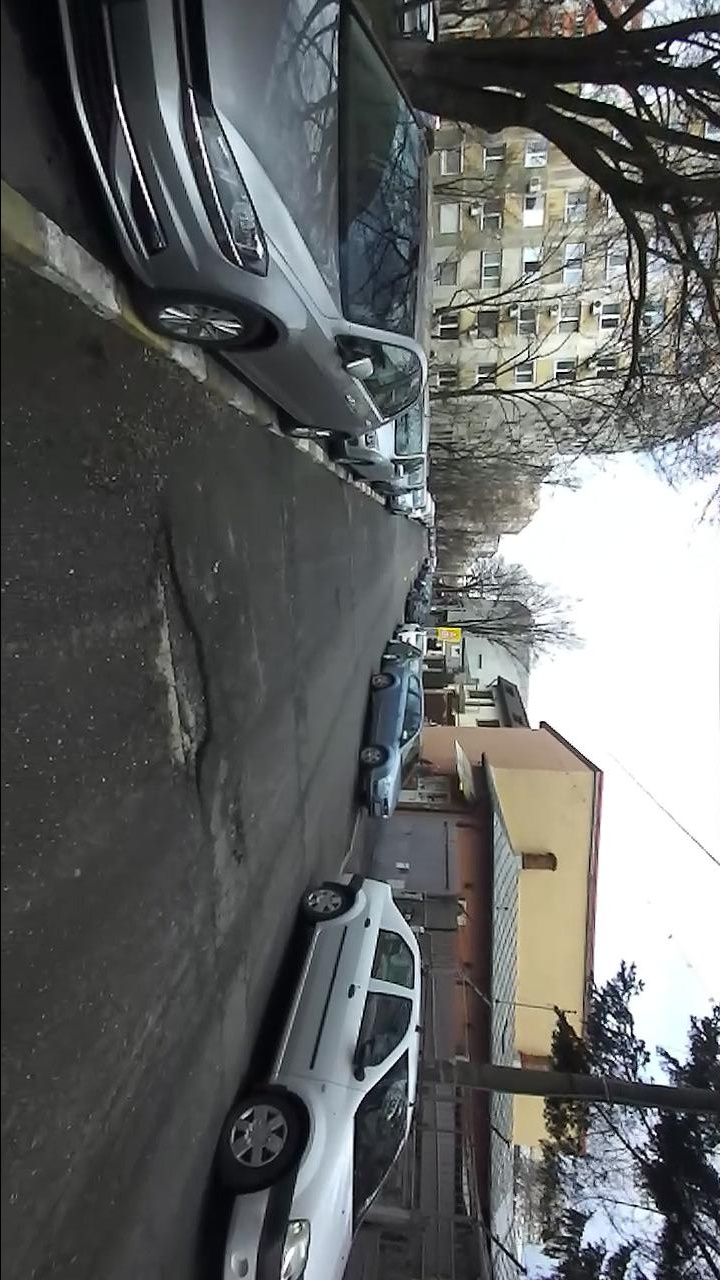pothole: (141, 505, 218, 794), (223, 781, 254, 873)
